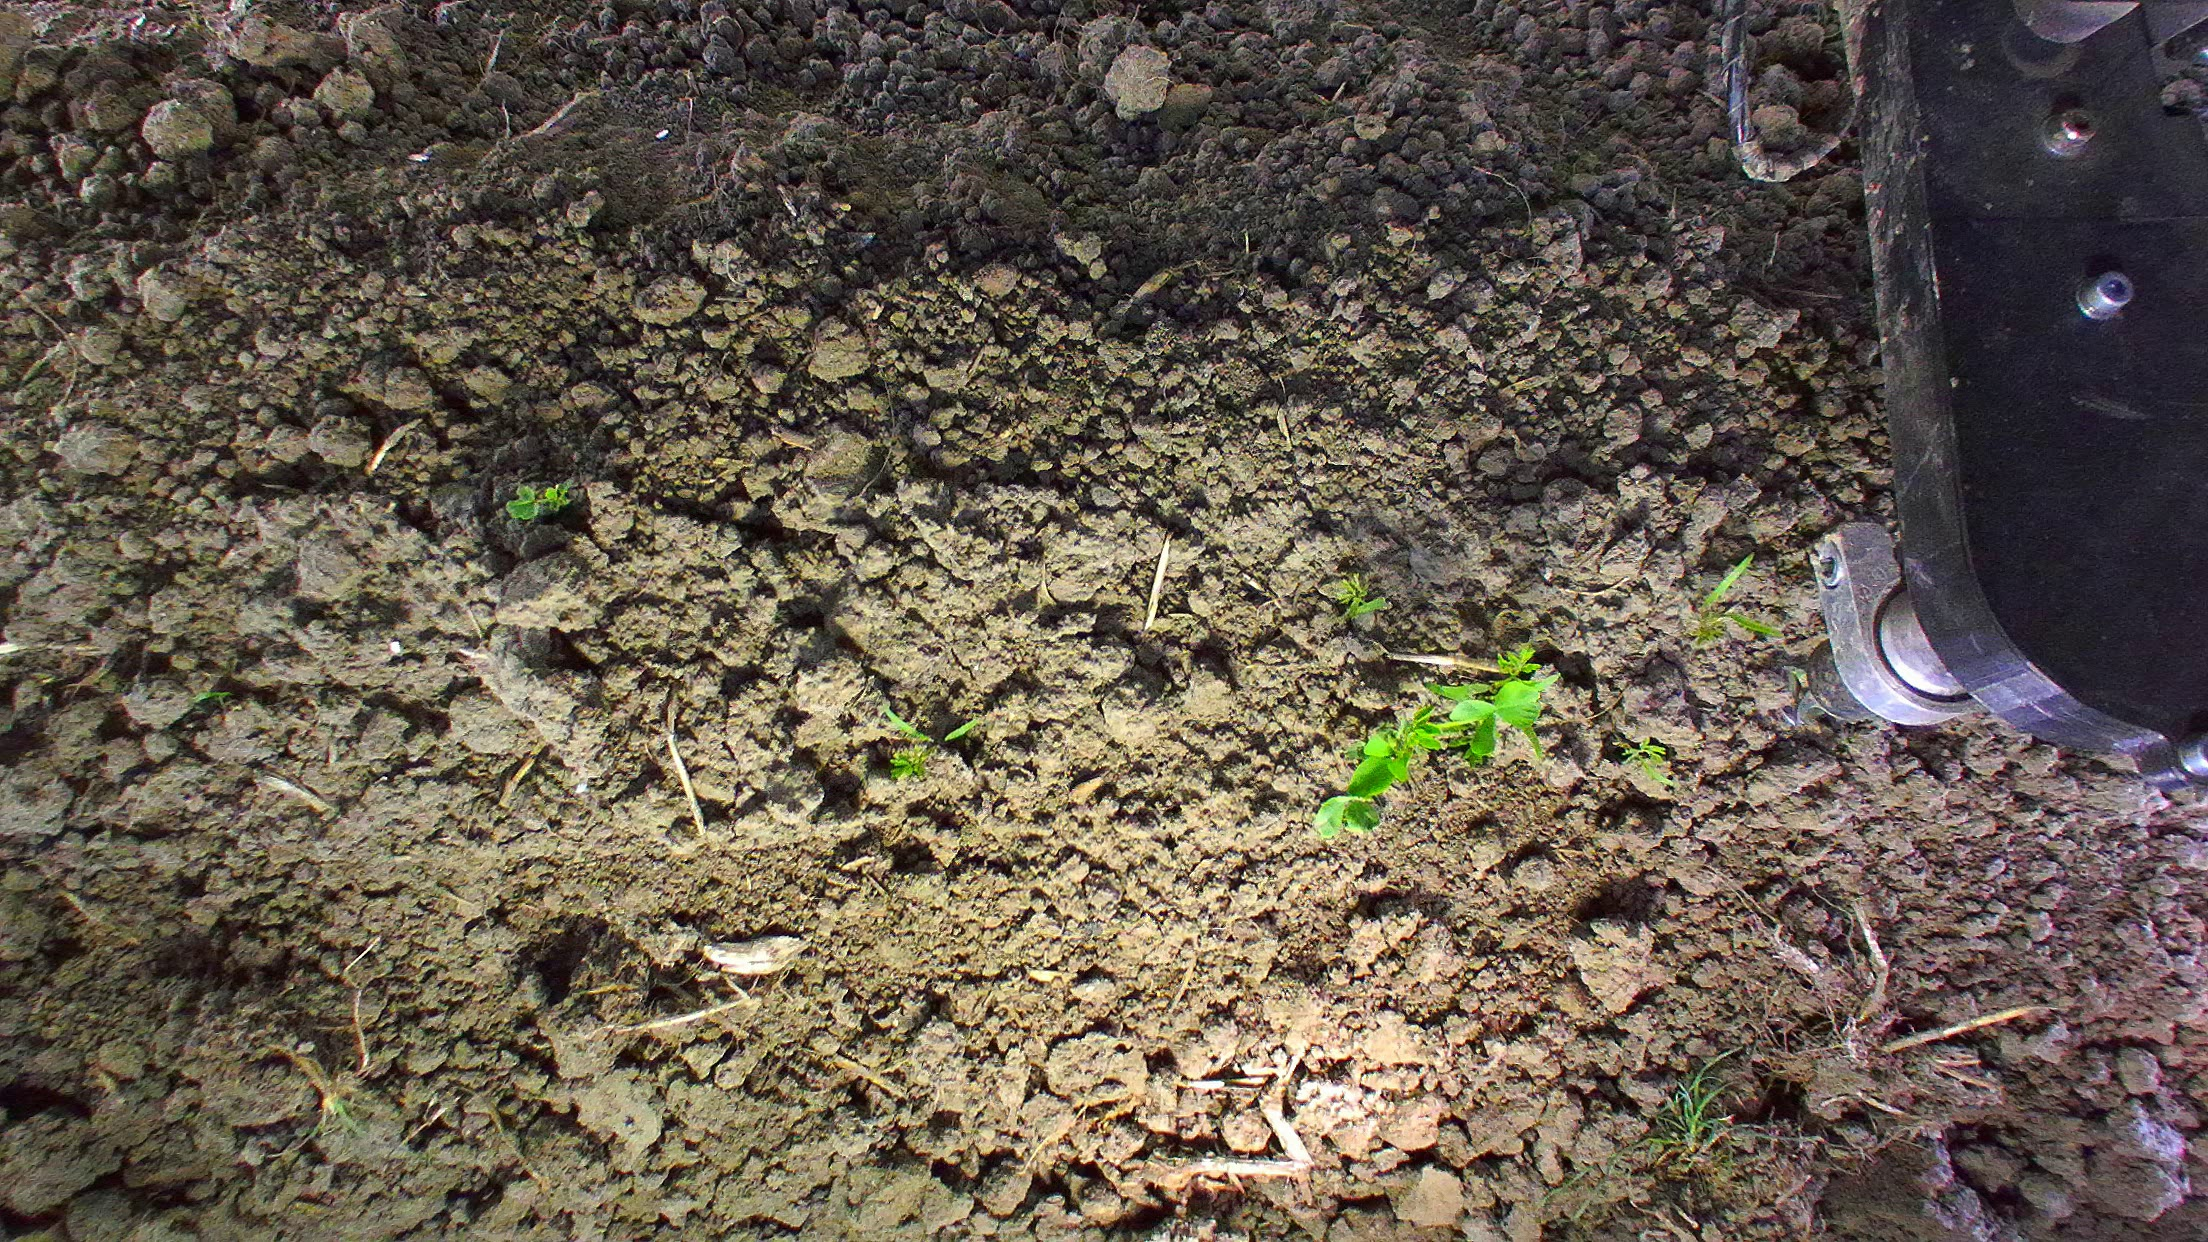Crop: (880, 704, 933, 783), (1612, 729, 1676, 789), (503, 478, 575, 528), (1698, 552, 1756, 610), (1701, 610, 1783, 641), (1331, 578, 1389, 622), (940, 717, 981, 745)
Weed: (1309, 645, 1547, 842), (1645, 1046, 1732, 1171)
